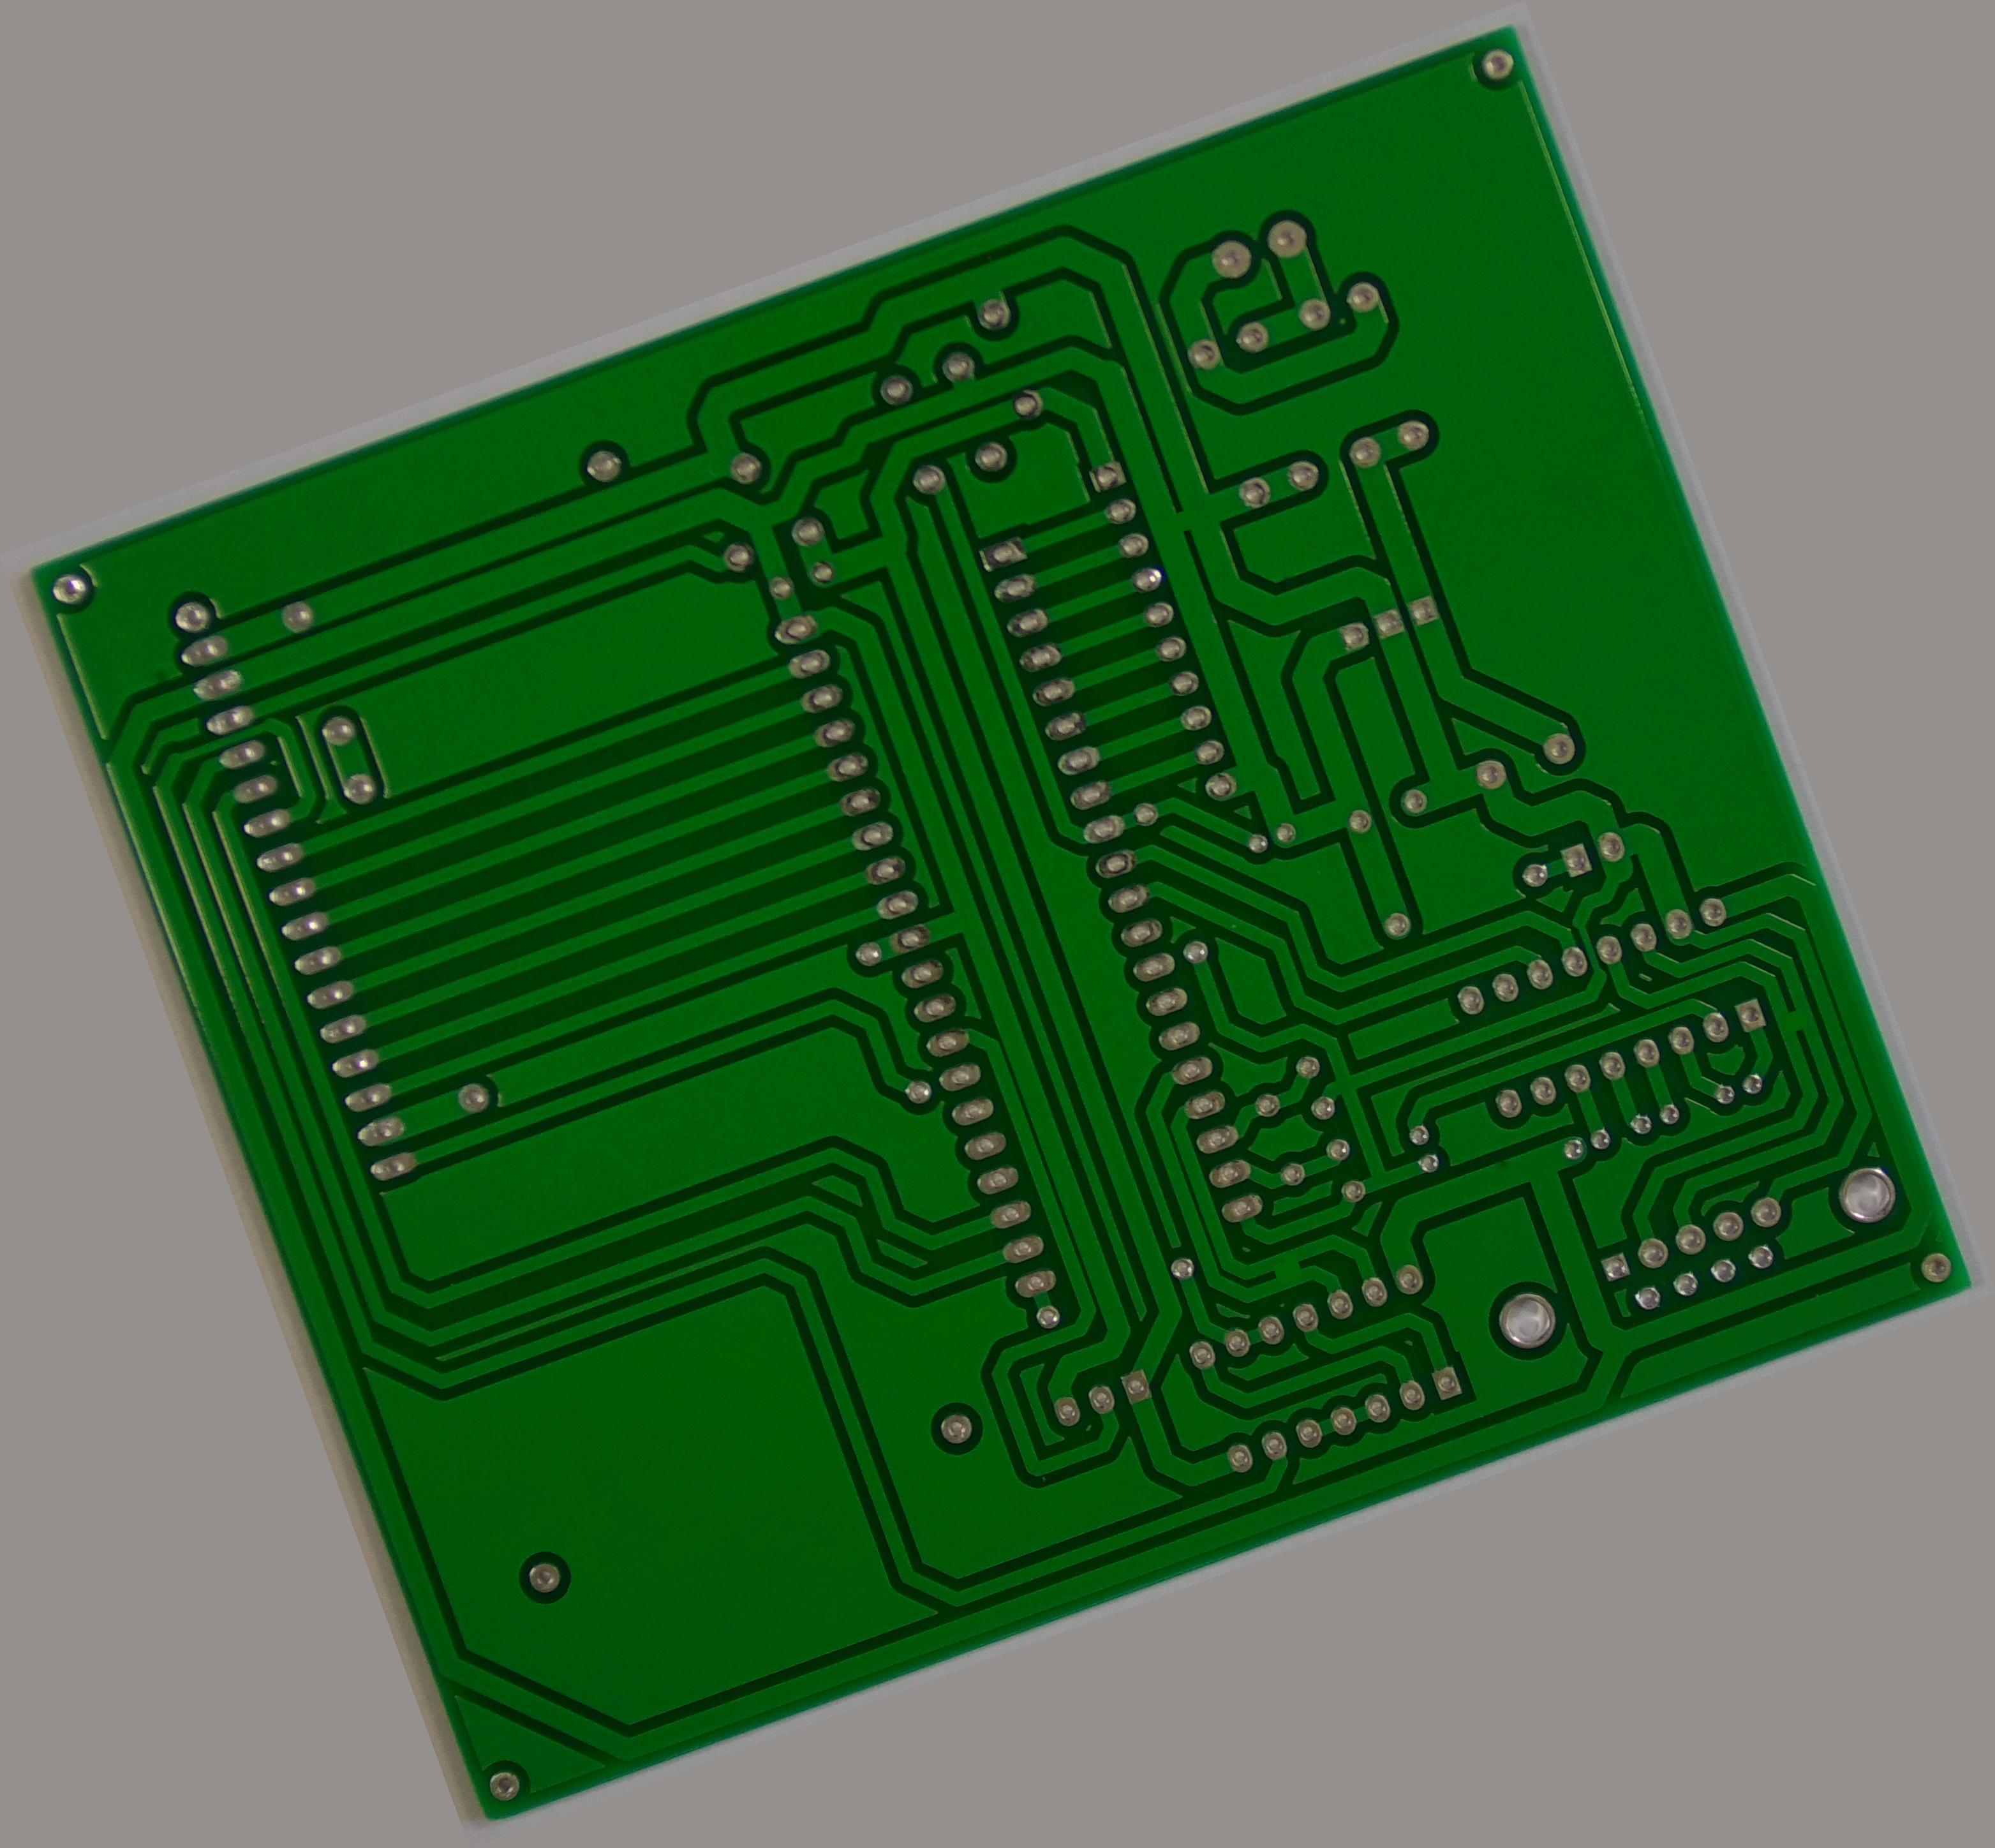short: (1140, 482, 1230, 563), (1249, 1233, 1321, 1300), (1767, 994, 1823, 1048)
